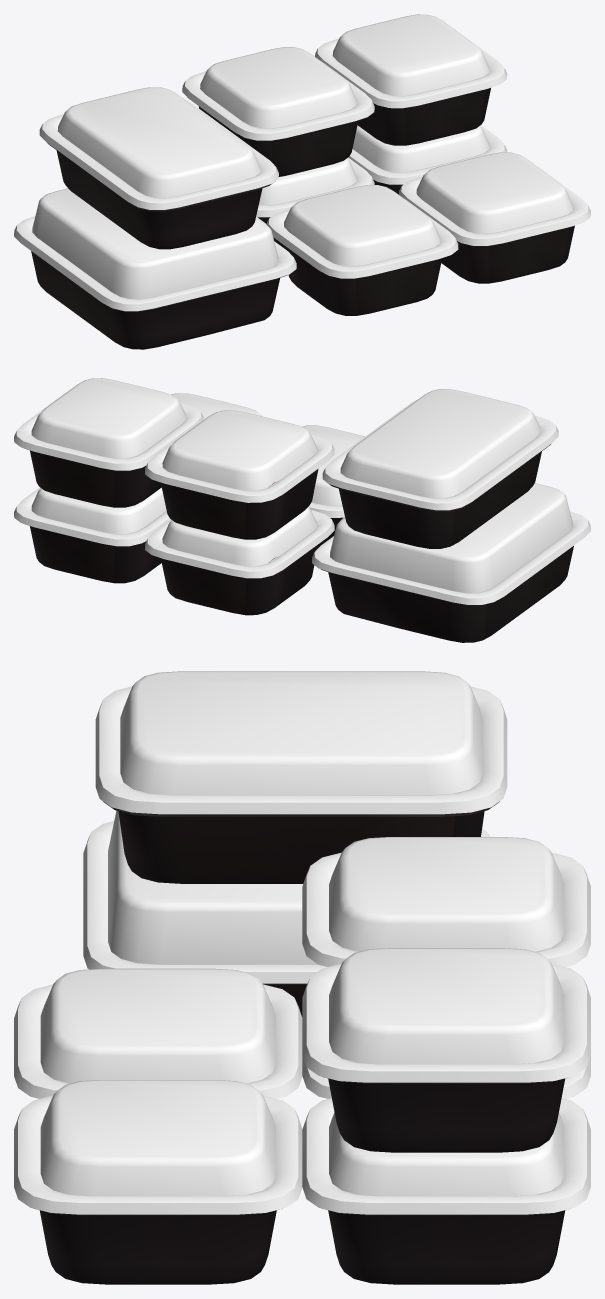
File: SM_bento_set_03.fbx
The picture shows the model from 3 angles, top to bottom: view 1: azimuth 30°, elevation 25°; view 2: azimuth 150°, elevation 25°; view 3: azimuth 270°, elevation 25°; orthographic projection. The views are drawn at different scales.
Parts seen in each view (by area): view 1: Object32430; view 2: Object32430; view 3: Object32430.
Part boxes in pixels (bbox=[...]): Object32430: bbox=[14, 14, 590, 349]; Object32430: bbox=[14, 378, 590, 642]; Object32430: bbox=[14, 671, 590, 1284].
Bounding box in the file's own units: 57.81 × 19.68 × 36.26.
